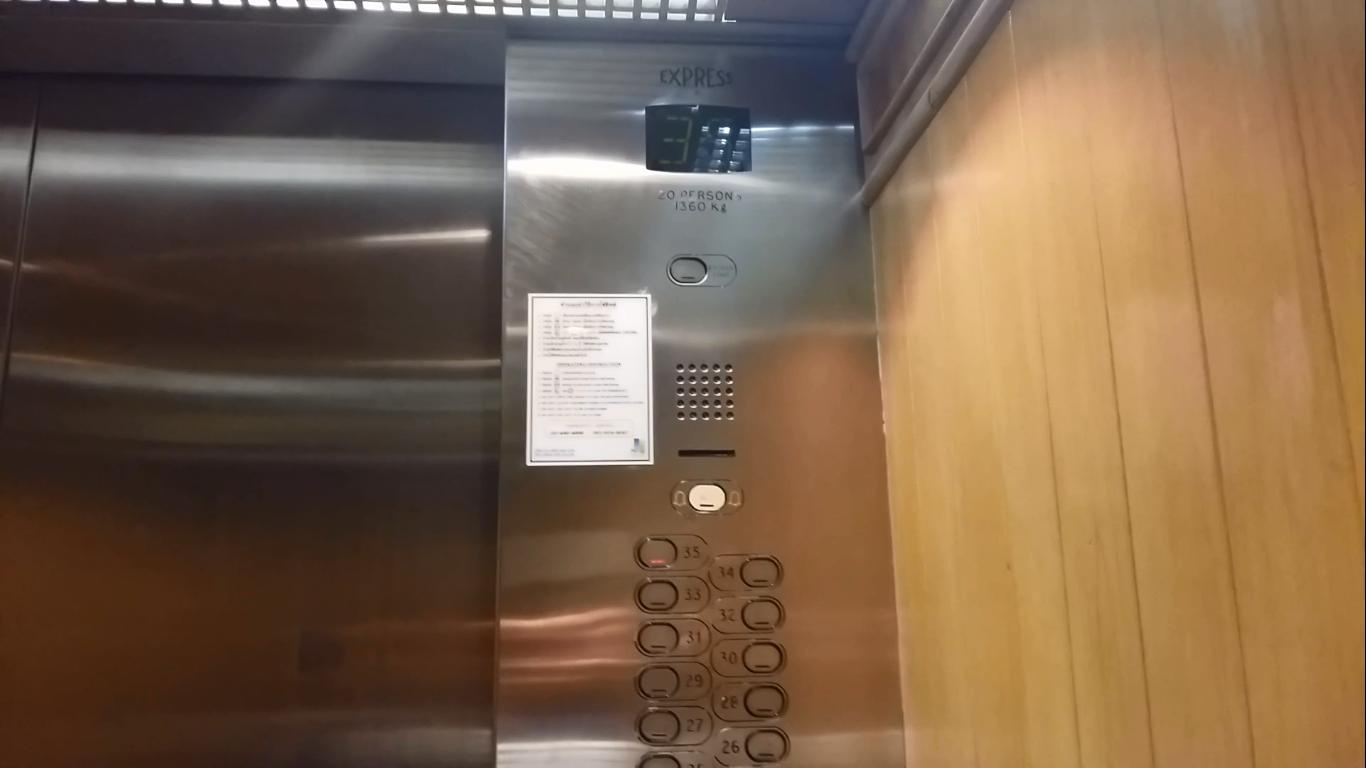26: (713, 726, 791, 766)
27: (634, 706, 714, 744)
28: (711, 682, 790, 721)
29: (634, 661, 713, 700)
30: (710, 638, 787, 677)
31: (634, 618, 712, 656)
32: (708, 595, 785, 634)
33: (634, 576, 711, 613)
34: (708, 553, 785, 592)
35: (634, 533, 711, 571)
alarm: (670, 479, 744, 516)
blur: (666, 252, 738, 288)
led: (644, 103, 753, 175)
